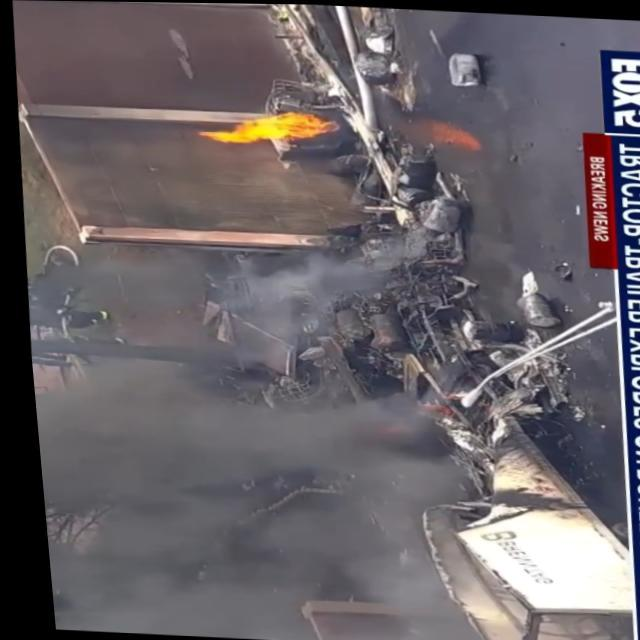fire: (186, 102, 336, 154)
